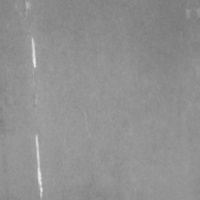scratches: (159, 126, 175, 199), (158, 30, 169, 66)
